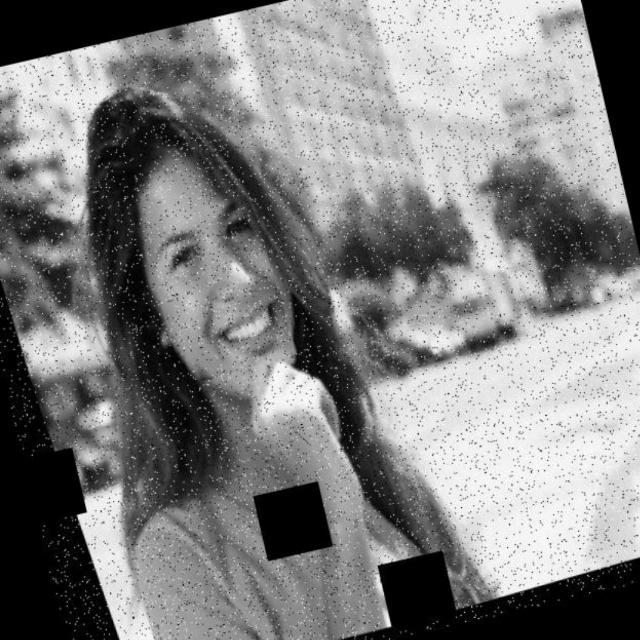Happy: (92, 86, 325, 448)
